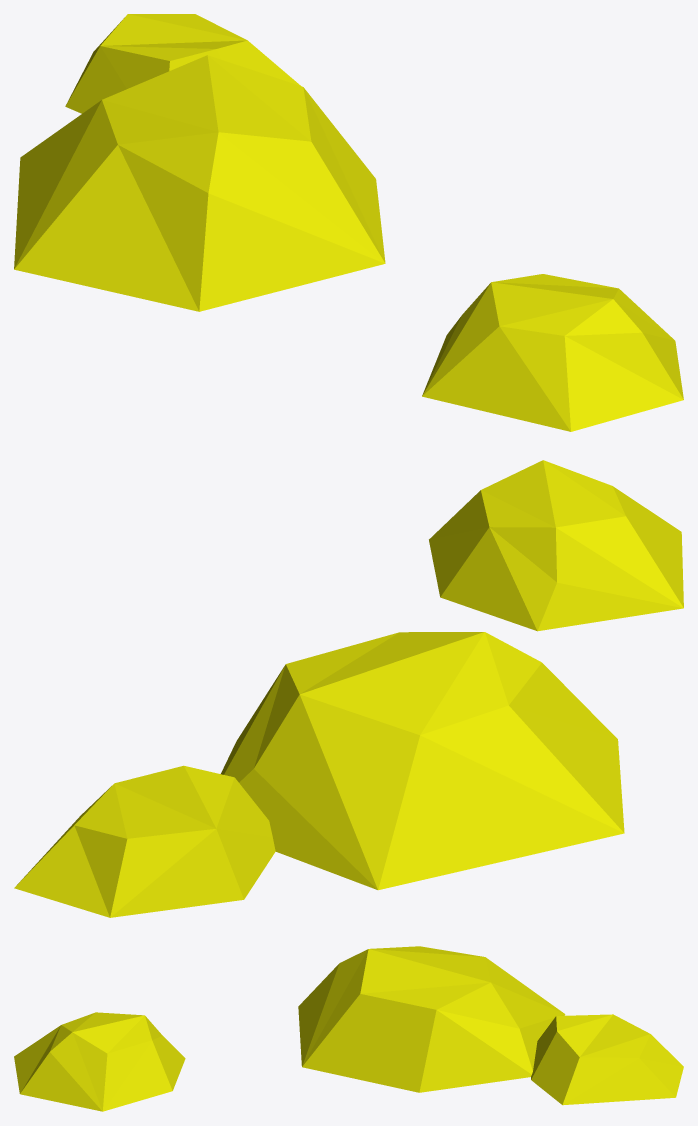
File: SM_Generic_Small_Rocks_04.glb
The picture shows the model from 3 angles, top to bottom: view 1: azimuth 30°, elevation 25°; view 2: azimuth 150°, elevation 25°; view 3: azimuth 270°, elevation 25°; orthographic projection. The views are drawn at different scales.
Visible parts, largest first — view 1: SM_Generic_Small_Rocks_04; view 2: SM_Generic_Small_Rocks_04; view 3: SM_Generic_Small_Rocks_04.
Part boxes in pixels (box(x1,y1,x2,y2)): SM_Generic_Small_Rocks_04: box(14, 14, 683, 431); SM_Generic_Small_Rocks_04: box(14, 460, 683, 917); SM_Generic_Small_Rocks_04: box(14, 946, 683, 1111).
Bounding box in the file's own units: 0.3569 × 0.0991 × 0.7434.
1 material, 1 textured.
